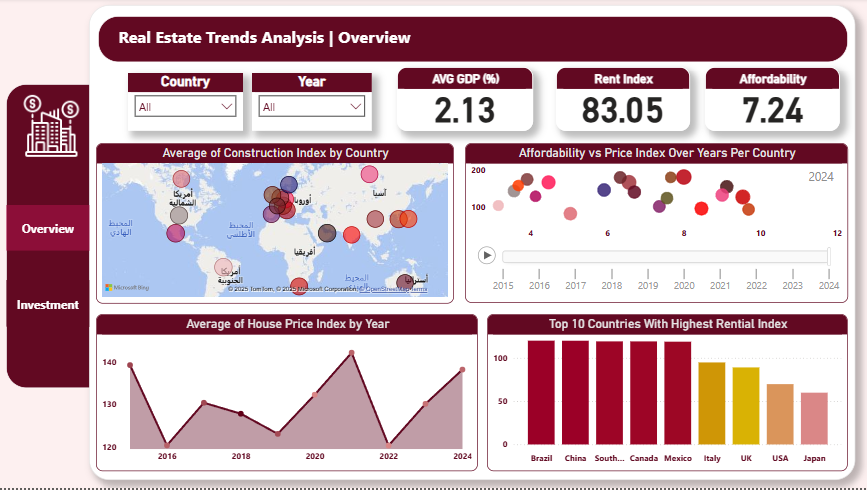

This screenshot's page, from the dashboard's own definition file:
{"tool":"powerbi","page":{"name":"Overview","canvas":[1280,720],"ordinal":0},"visuals":[{"type":"shape","box":[10.3,126.4,233.6,446.7],"z":0},{"type":"shape","box":[132.2,10.3,1125.6,698],"z":1000},{"type":"columnChart","title":"Top 10 Countries With Highest Rential Index","fields":{"Category":["global_housing_market_extended.Country"],"Y":["Avg(global_housing_market_extended.Rent Index)"]},"box":[717.1,464.3,530.4,230.7],"z":2000},{"type":"scatterChart","title":"Affordability vs Price Index Over Years Per Country","fields":{"X":["Avg(global_housing_market_extended.Affordability Ratio)"],"Series":["global_housing_market_extended.Country"],"Size":["Avg(global_housing_market_extended.Rent Index)"],"Y":["Avg(global_housing_market_extended.House Price Index)"],"Play":["global_housing_market_extended.Year"]},"box":[684.7,213.1,562.8,235.1],"z":3000},{"type":"lineChart","fields":{"Category":["global_housing_market_extended.Year"],"Y":["Avg(global_housing_market_extended.House Price Index)"]},"box":[142.9,464.3,561.4,231.4],"z":4000},{"type":"card","title":"AVG GDP (%)","fields":{"Values":["Measures_Table.average GDP"]},"box":[584.8,101.4,199.8,94],"z":5000},{"type":"card","title":"Rent Index","fields":{"Values":["Avg(global_housing_market_extended.Rent Index)"]},"box":[818.4,101.4,196.9,94],"z":6000},{"type":"card","title":"Affordability","fields":{"Values":["Measures_Table.AVG Affordability"]},"box":[1037.4,101.4,198.4,94],"z":7000},{"type":"slicer","title":"Country","fields":{"Values":["global_housing_market_extended.Country"]},"box":[189.6,110.2,169,85.2],"z":8000},{"type":"map","fields":{"Category":["global_housing_market_extended.Country"],"Size":["Avg(global_housing_market_extended.Construction Index)"]},"box":[142.9,212.9,525.7,235.7],"z":9000},{"type":"slicer","title":"Year","fields":{"Values":["global_housing_market_extended.Year"]},"box":[371.8,110.2,176.3,85.2],"z":10000},{"type":"shape","box":[145.5,26.4,1102,67.6],"z":11000},{"type":"textbox","box":[170,35.7,450,58.6],"z":12000},{"type":"image","box":[25.7,125.7,101.4,122.9],"z":13000},{"type":"actionButton","box":[10,304.3,122.9,67.1],"z":14000},{"type":"actionButton","box":[10,414.3,122.9,68.6],"z":15000}]}

Visuals, with their boxes on the page's 1280x720 design canvas (x1, y1, x2, y2). These are canvas units, not pixel positions in the 867x490 screenshot, which may show the page scaled, cropped or inside an application window:
shape: BBox(10, 126, 244, 573)
shape: BBox(132, 10, 1258, 708)
"Top 10 Countries With Highest Rential Index" columnChart: BBox(717, 464, 1248, 695)
"Affordability vs Price Index Over Years Per Country" scatterChart: BBox(685, 213, 1248, 448)
lineChart - global_housing_market_extended.Year x Avg(global_housing_market_extended.House Price Index): BBox(143, 464, 704, 696)
"AVG GDP (%)" card: BBox(585, 101, 785, 195)
"Rent Index" card: BBox(818, 101, 1015, 195)
"Affordability" card: BBox(1037, 101, 1236, 195)
"Country" slicer: BBox(190, 110, 359, 195)
map - global_housing_market_extended.Country x Avg(global_housing_market_extended.Construction Index): BBox(143, 213, 669, 449)
"Year" slicer: BBox(372, 110, 548, 195)
shape: BBox(146, 26, 1248, 94)
textbox: BBox(170, 36, 620, 94)
image: BBox(26, 126, 127, 249)
actionButton: BBox(10, 304, 133, 371)
actionButton: BBox(10, 414, 133, 483)
